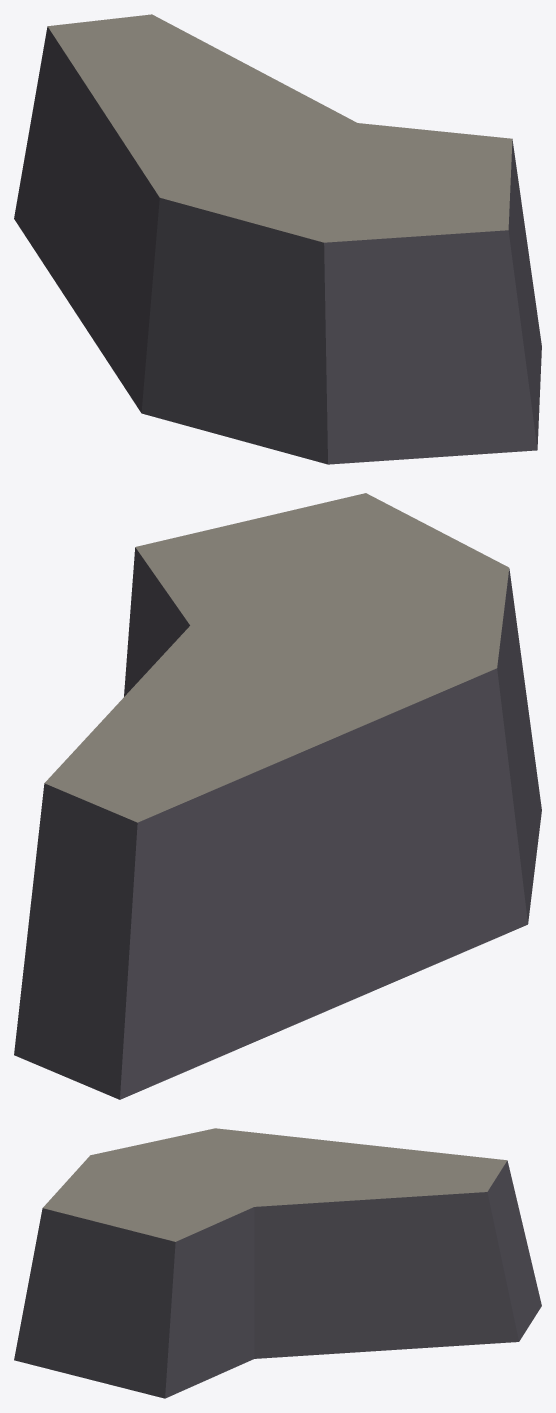
File: TB_Env_RockH.FBX
The picture shows the model from 3 angles, top to bottom: view 1: azimuth 30°, elevation 25°; view 2: azimuth 150°, elevation 25°; view 3: azimuth 270°, elevation 25°; orthographic projection. The views are drawn at different scales.
Parts seen in each view (by area): view 1: TB_Env_RockH; view 2: TB_Env_RockH; view 3: TB_Env_RockH.
Part boxes in pixels (box(x1,y1,x2,y2)): TB_Env_RockH: box(14, 14, 541, 464); TB_Env_RockH: box(14, 493, 541, 1099); TB_Env_RockH: box(14, 1128, 541, 1398).
Size of the model in its own units: 1.55 by 0.8333 by 2.68.
